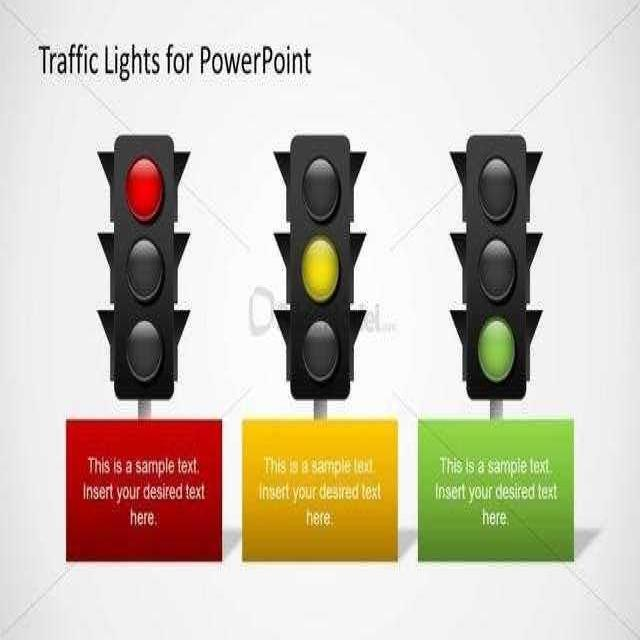Traffic Light -Green-: (454, 130, 549, 401)
Traffic Light -Red-: (92, 118, 192, 404)
Traffic Light -Yellow-: (268, 124, 368, 401)
